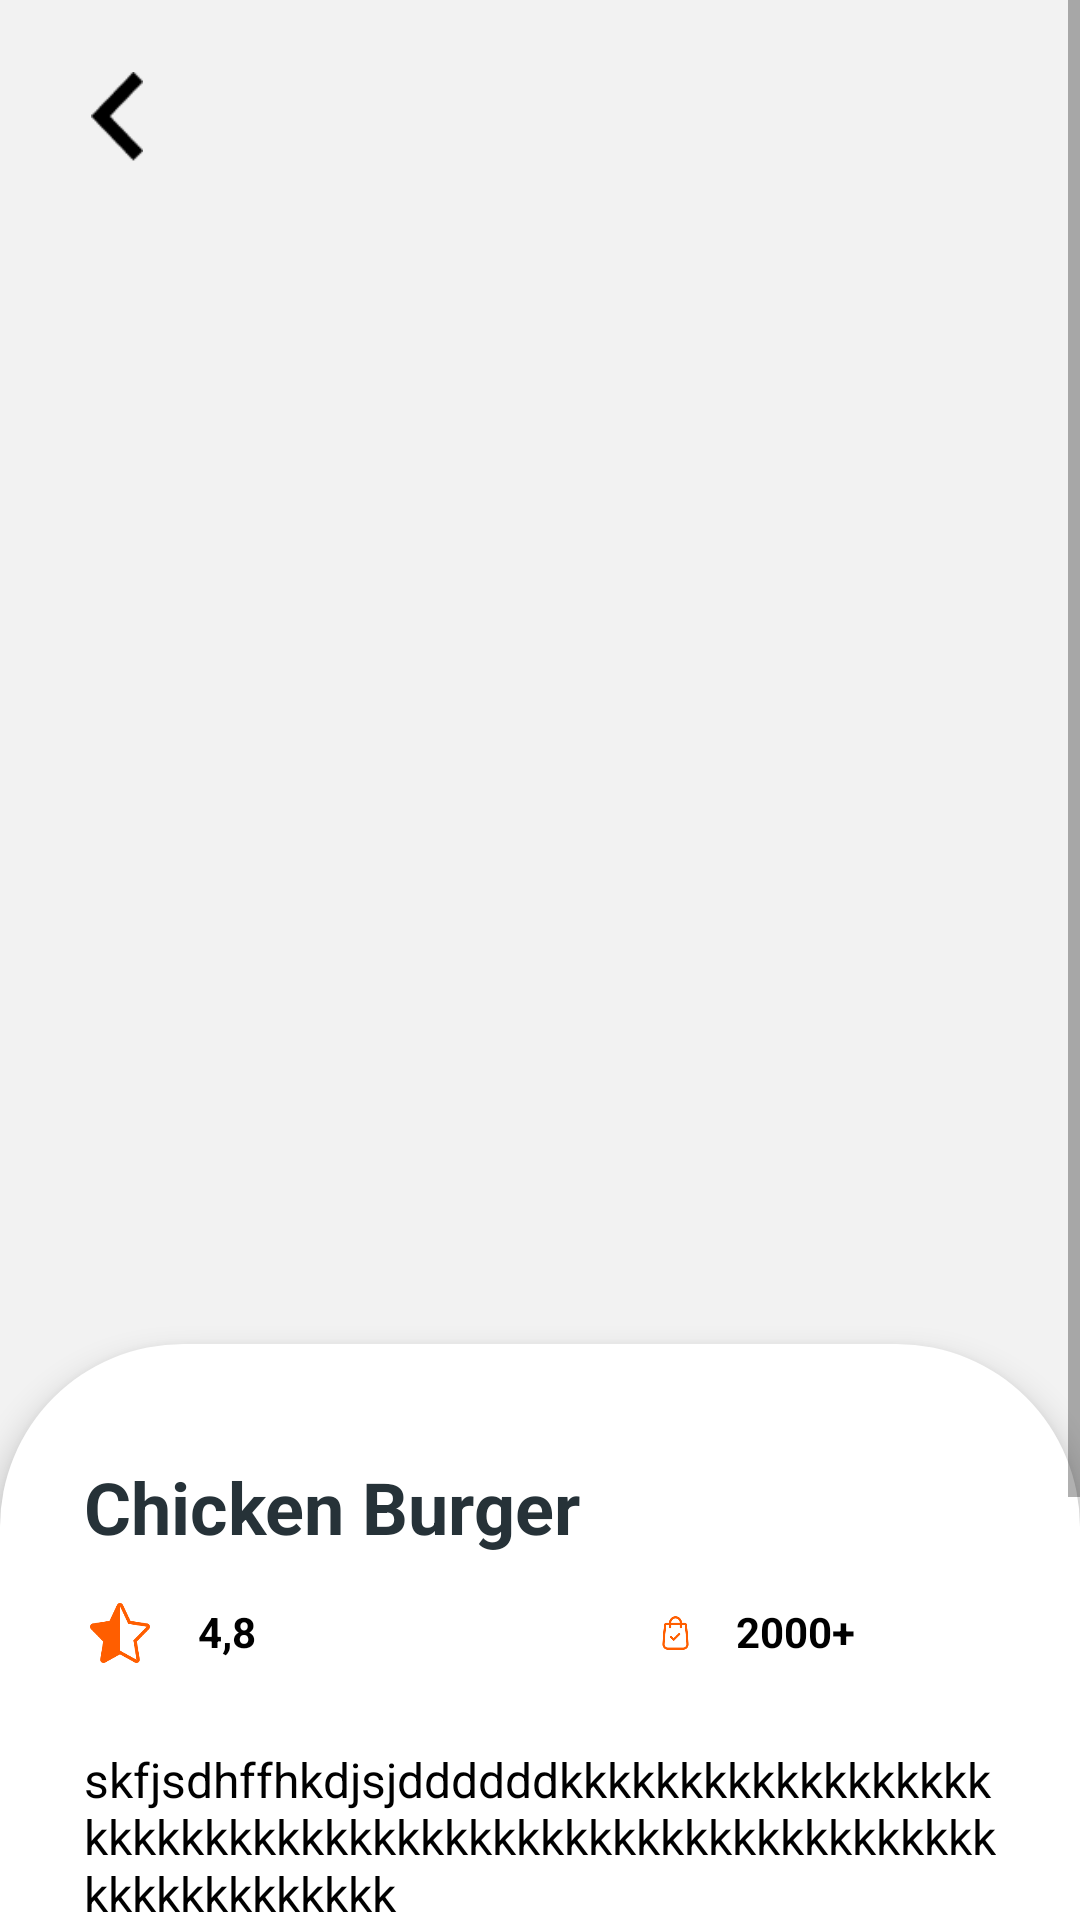

Screen size 1080*1920. Icon name, then its box in pixels as {"x1": x1, "y1": y1, "x2": x2, "y2": y2}:
back: {"x1": 91, "y1": 72, "x2": 143, "y2": 161}
shopping bag: {"x1": 662, "y1": 1616, "x2": 689, "y2": 1650}
star: {"x1": 90, "y1": 1603, "x2": 150, "y2": 1663}
